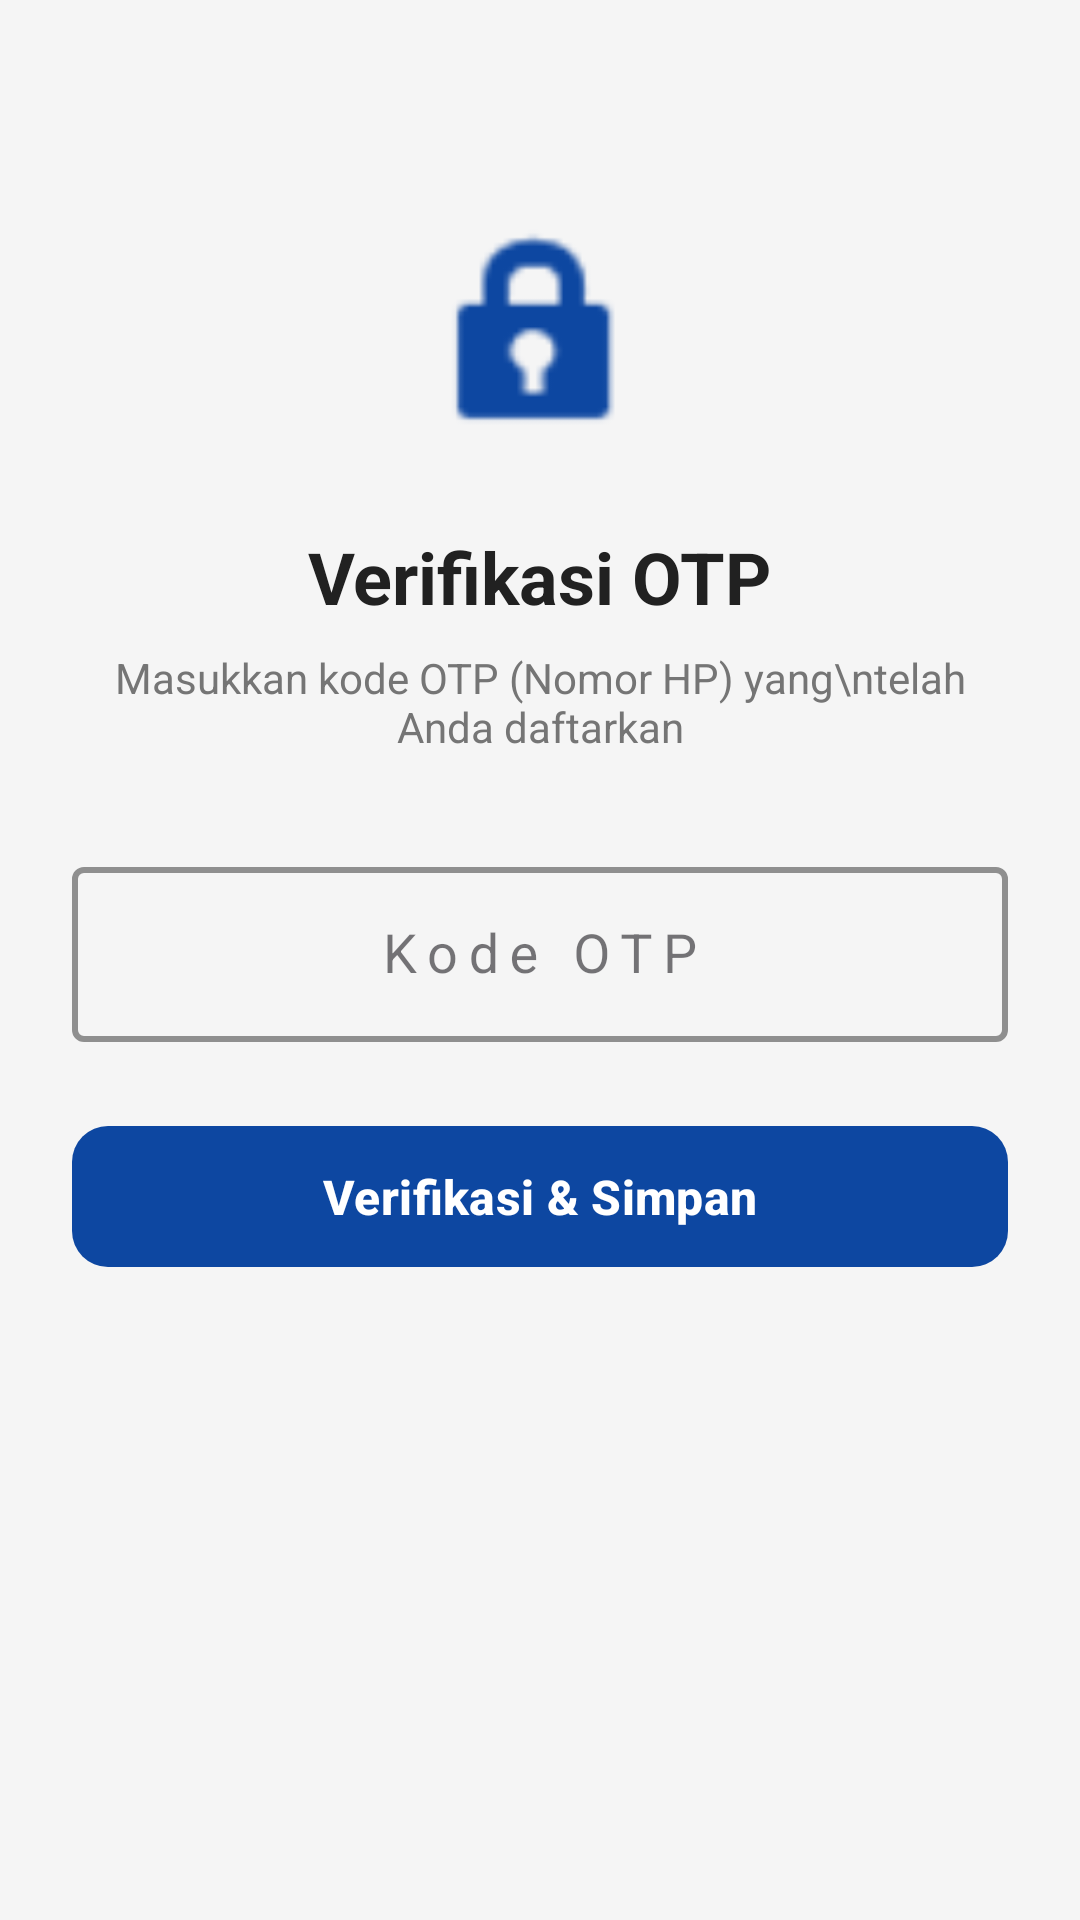

Icon click points for this 1080*1920 phone screenshot, format (x,y):
lock idle: (534,328)
